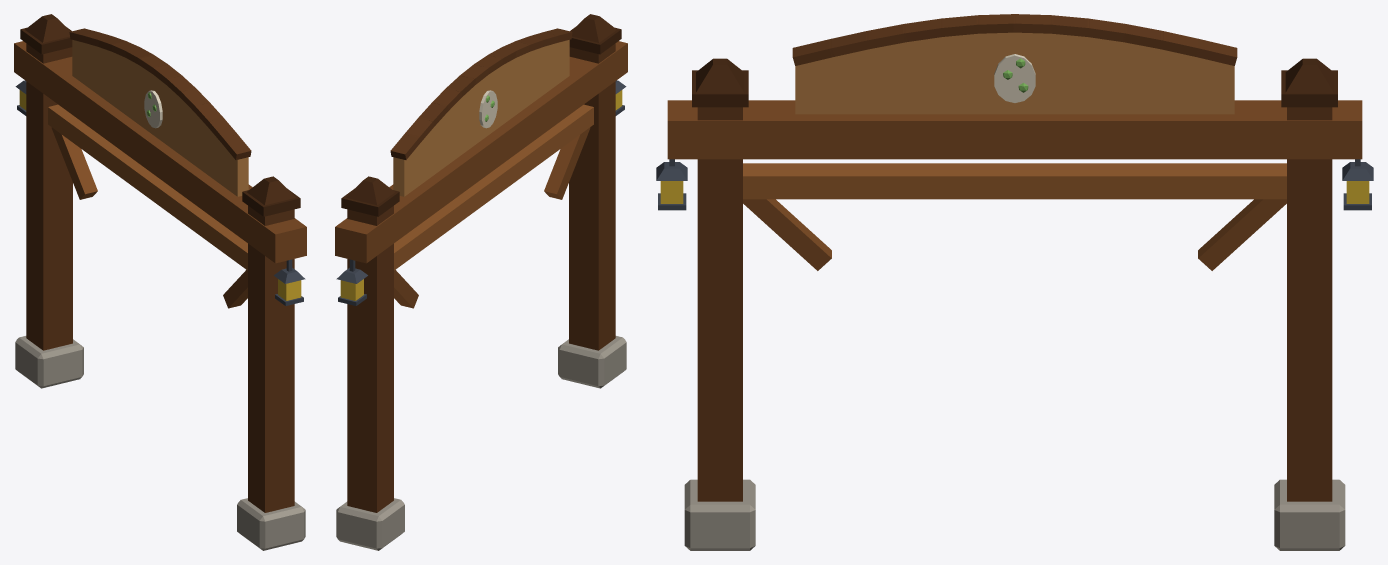
The model's file is ranch_gate.glb.
3 renders of one model, left to right at view 1: azimuth 30°, elevation 25°; view 2: azimuth 150°, elevation 25°; view 3: azimuth 270°, elevation 25°, orthographic. The views are drawn at different scales.
Visible parts, largest first — view 1: ranch_gate; view 2: ranch_gate; view 3: ranch_gate.
Boxes of the visible parts, x1,y1,x2,y2 form: ranch_gate: (14,14,306,550); ranch_gate: (335,14,627,550); ranch_gate: (656,14,1373,550).
Bounding box in the file's own units: 0.5 × 4.05 × 5.06.
